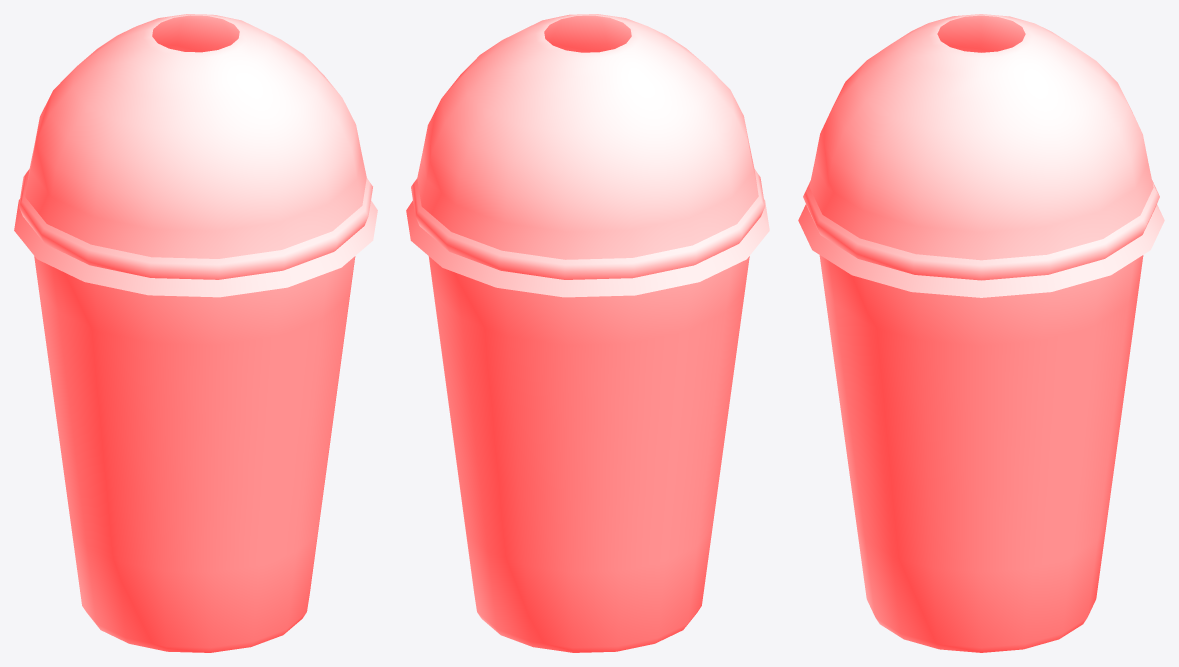
Rendered from Drink (12).fbx.
The picture shows the model from 3 angles, left to right: view 1: azimuth 30°, elevation 25°; view 2: azimuth 150°, elevation 25°; view 3: azimuth 270°, elevation 25°; orthographic projection.
Visible parts, largest first — view 1: Drink__12_, Cap; view 2: Drink__12_, Cap; view 3: Drink__12_, Cap.
Part boxes in pixels (x1,y1,x2,y2): Drink__12_: (34, 256, 355, 652); Cap: (14, 14, 377, 297); Drink__12_: (428, 256, 749, 652); Cap: (406, 14, 769, 297); Drink__12_: (819, 255, 1143, 652); Cap: (798, 14, 1164, 297).
Size of the model in its own units: 67.45 by 116 by 67.45.
